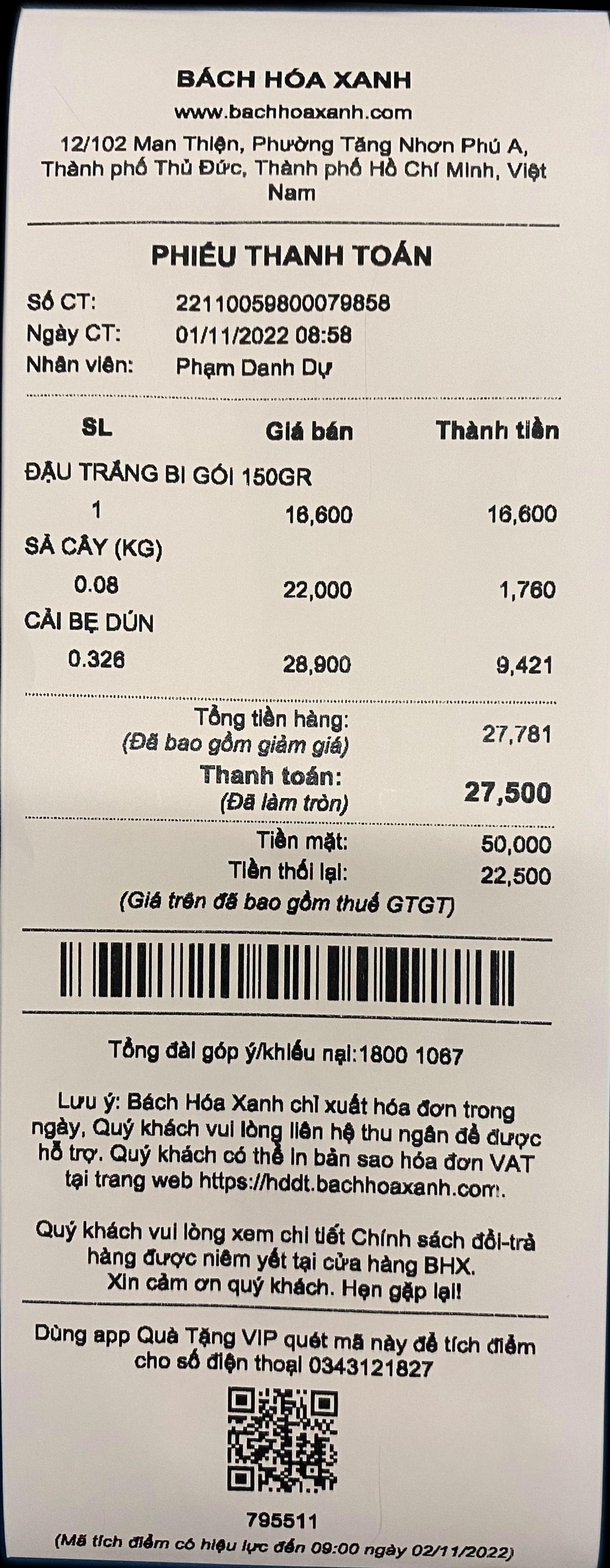Date: (163, 315, 295, 353)
Store_Name: (138, 38, 452, 103)
Total_Amount: (37, 688, 574, 750)
